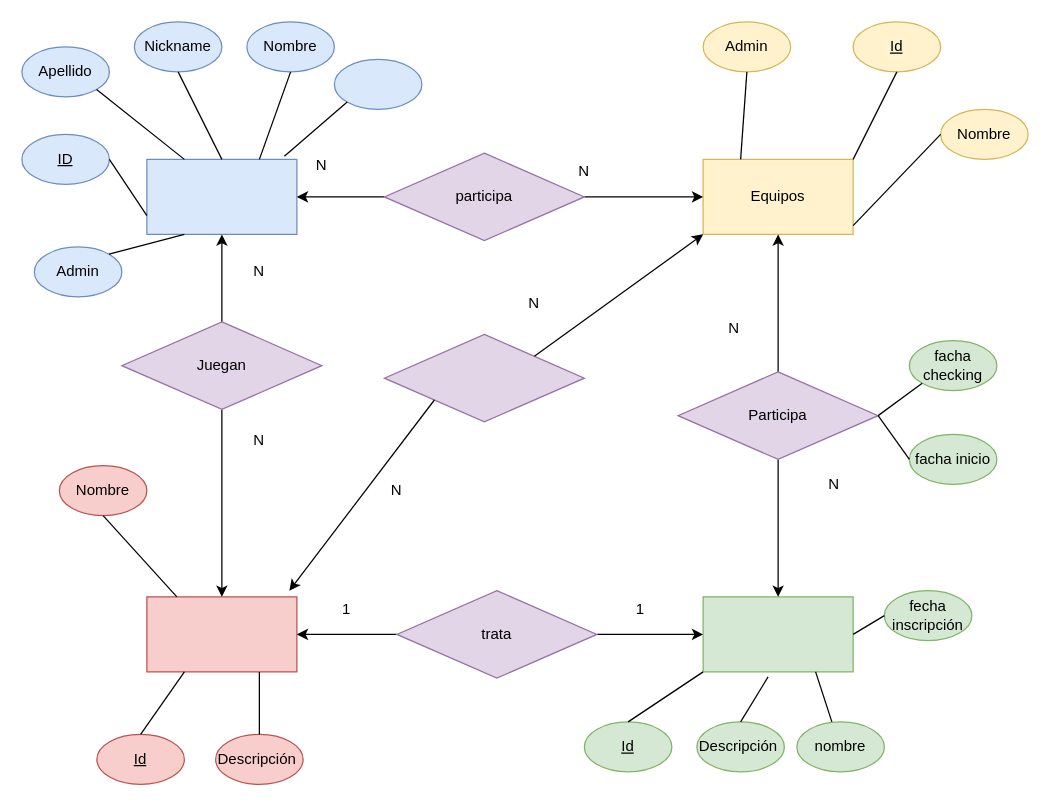
Some shapes in this 1050 by 806 pixel diagram are drawn without their labels. The shapes that lost their labels are listed below. From the top down, each one's box as (x1, y1, x2, y2) in pixels, then its label:
(333, 58, 422, 109): contrasenya
(146, 158, 297, 234): Usuarios
(383, 333, 584, 422): Practica
(146, 596, 297, 672): Deporte
(702, 596, 853, 672): Torneos
